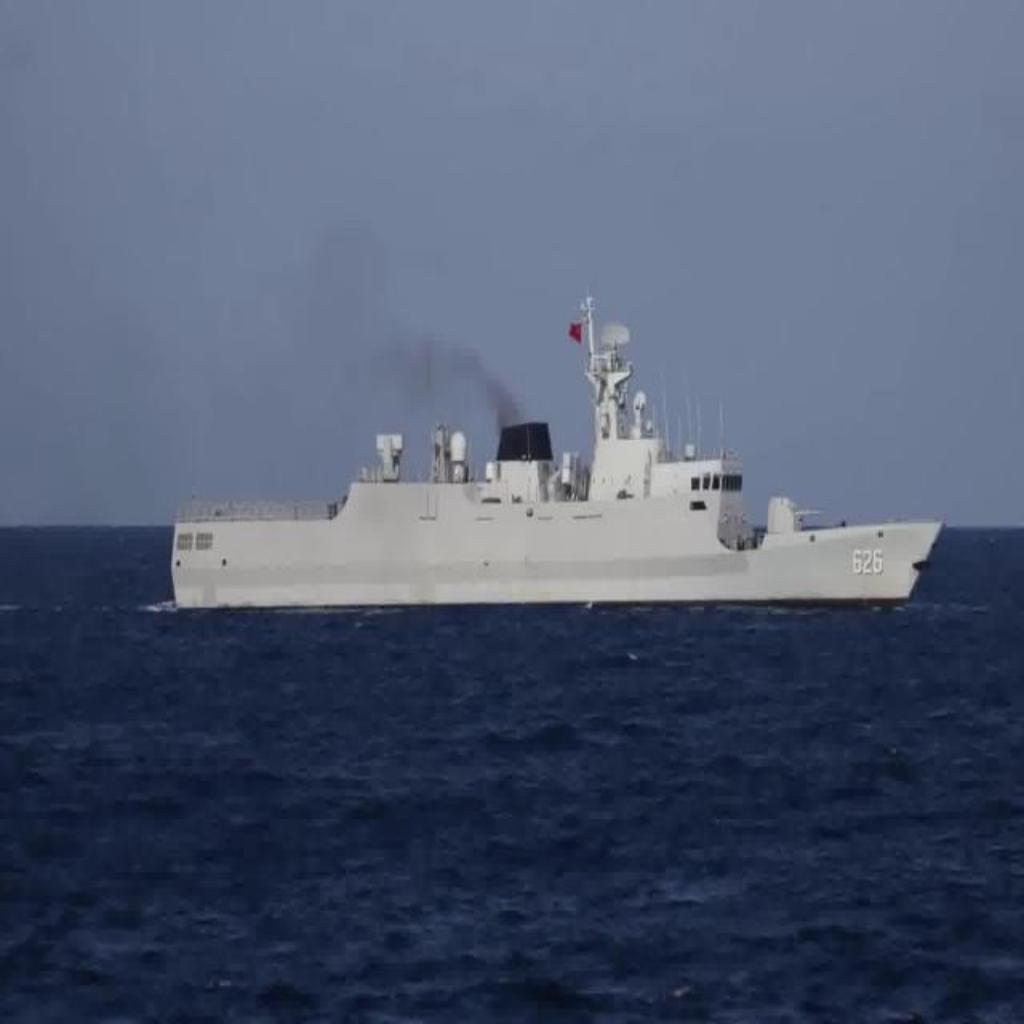Warship: (164, 288, 944, 612)
